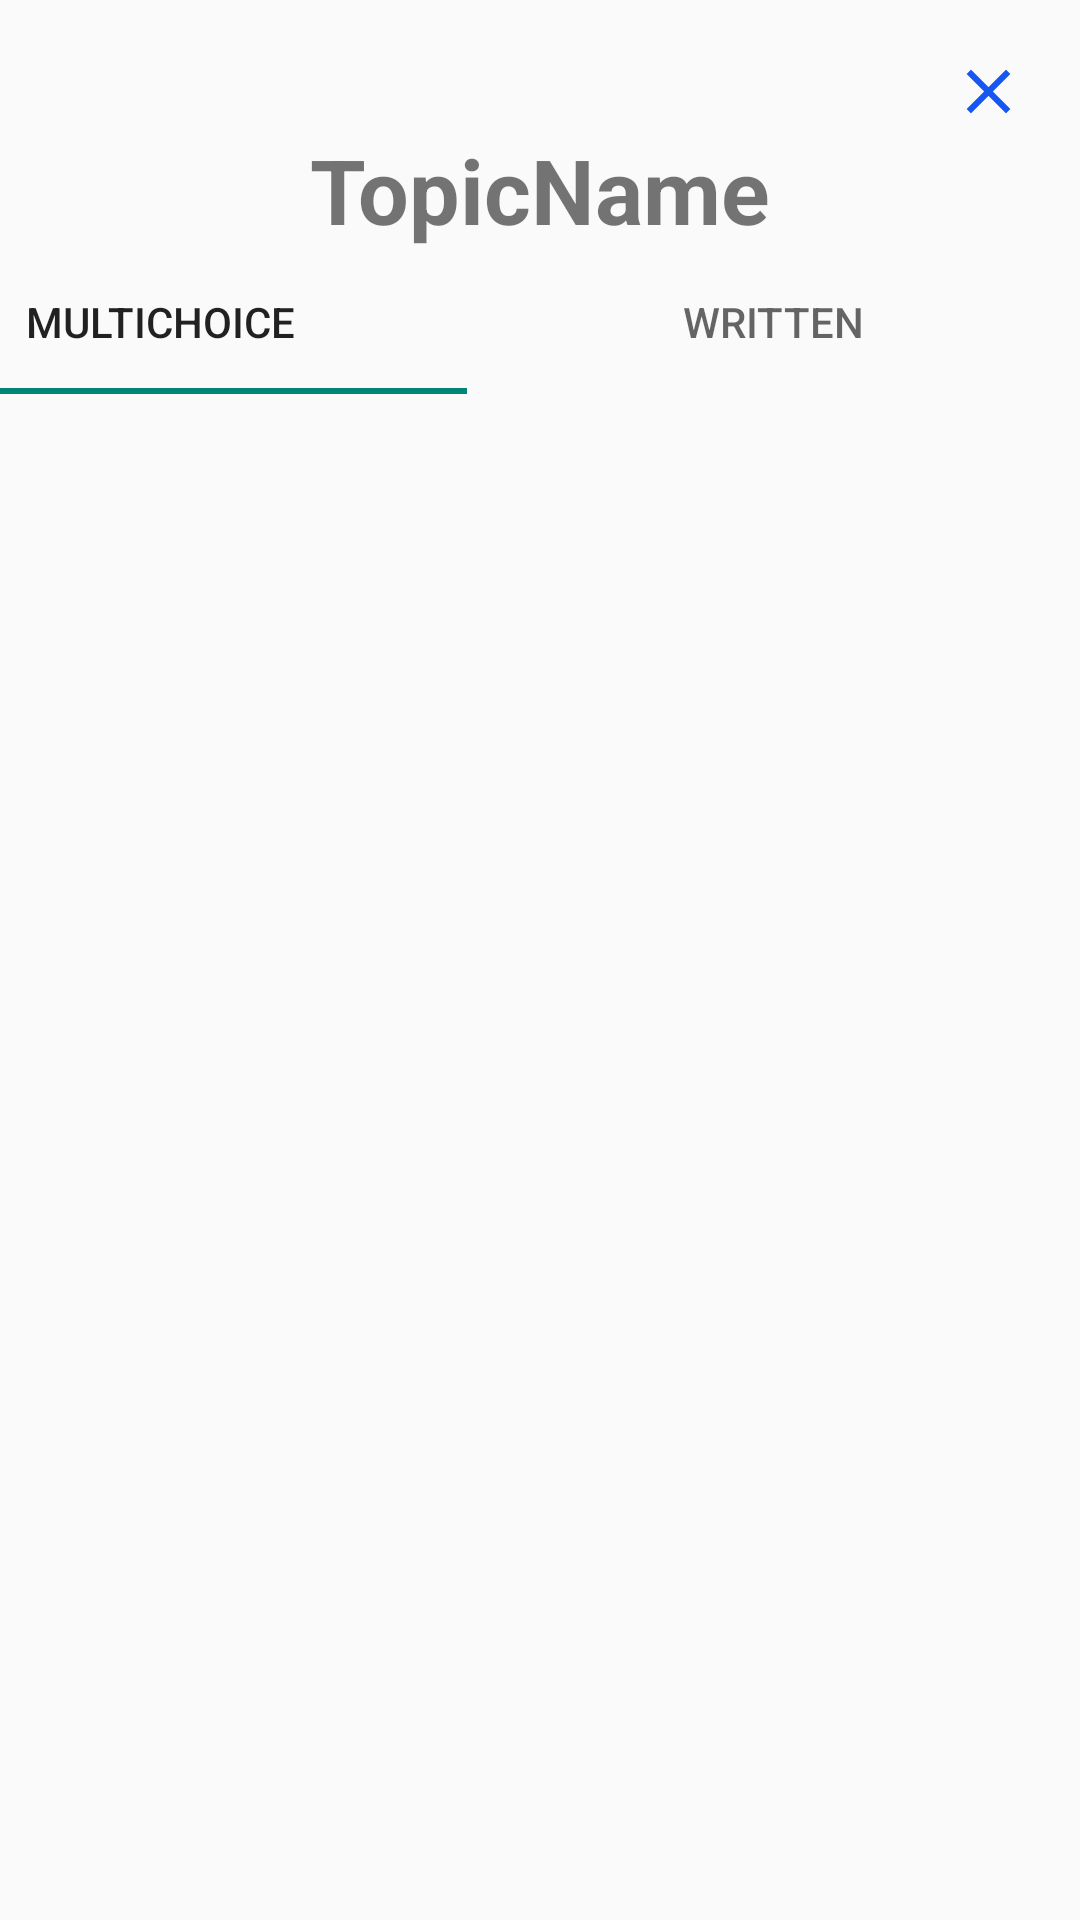

Locate icon controls on the screen. Image size 1080px x 1920px, boxes as (x1, y1, x2, y2).
close: (967, 70, 1010, 113)
